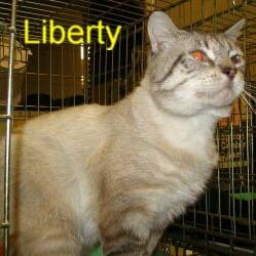cat: (8, 12, 245, 253)
